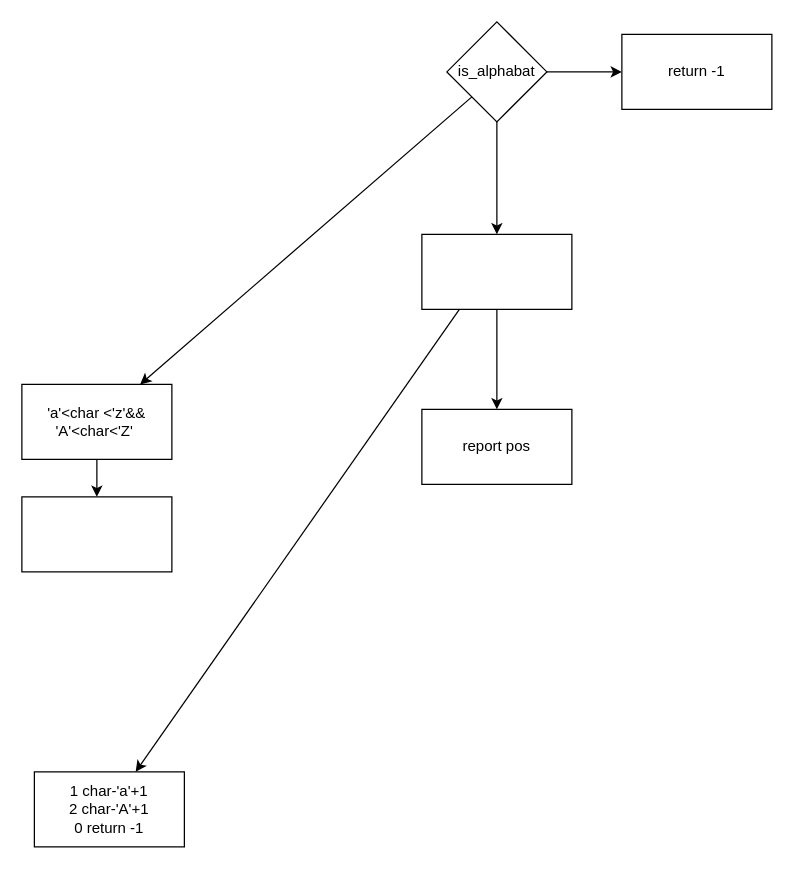
Image size: 794x869. Some labels were removed from this diagram. Here are the shapes that lost their labels. From the top down, the centre of each, then its label:
the point at 496,271: alpha_pos
the point at 96,534: return 1->yes_low return 2->yes_up return 0->no
